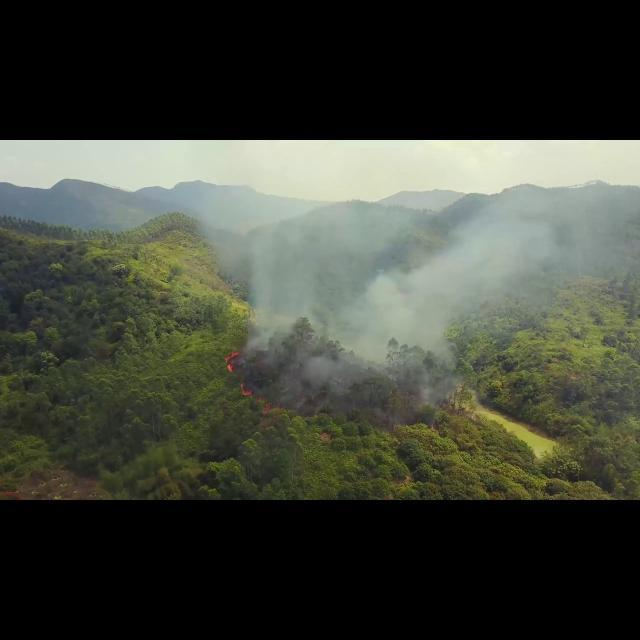Fire: (238, 382, 272, 413), (224, 351, 240, 371)
Smoke: (245, 140, 640, 352), (279, 356, 452, 420)
